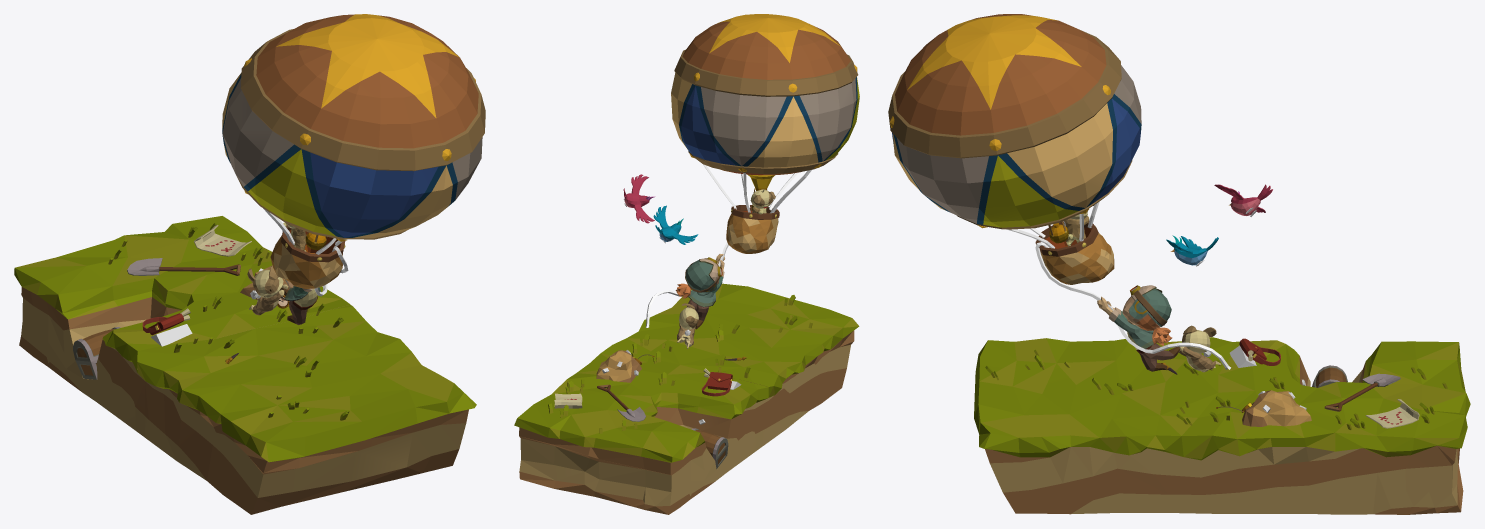
The model's file is 0028_hotAirBalloon.fbx.
The picture shows the model from 3 angles, left to right: view 1: azimuth 30°, elevation 25°; view 2: azimuth 150°, elevation 25°; view 3: azimuth 270°, elevation 25°; orthographic projection. The views are drawn at different scales.
Visible parts, largest first — view 1: AirBalloon_Balloon, Ground_B, Ground_A, AirBalloon_Basket, Chest, Shovel, Map, Dog_A_Head; view 2: Ground_A, AirBalloon_Balloon, Ground_B, AirBalloon_Basket, Boy_Head, Dirt, AirBalloon_Rope_M, Bird_B, Bird_A, Chest, Shovel, Map (+2 smaller); view 3: AirBalloon_Balloon, Ground_B, Ground_A, AirBalloon_Basket, Dirt, Boy_Head, AirBalloon_Rope_L, Boy_Body, Map, Bird_B, Bird_A, Shovel.
Boxes of the visible parts, <box> form: AirBalloon_Balloon: <box>222,14,485,241</box>; Ground_B: <box>137,305,476,514</box>; Ground_A: <box>14,216,350,437</box>; AirBalloon_Basket: <box>270,227,345,288</box>; Chest: <box>73,327,120,379</box>; Shovel: <box>127,258,240,275</box>; Map: <box>194,225,251,256</box>; Dog_A_Head: <box>247,265,283,297</box>; Ground_A: <box>514,347,768,514</box>; AirBalloon_Balloon: <box>671,14,859,190</box>; Ground_B: <box>610,283,859,445</box>; AirBalloon_Basket: <box>726,205,779,253</box>; Boy_Head: <box>675,258,718,298</box>; Dirt: <box>596,350,641,382</box>; AirBalloon_Rope_M: <box>703,164,811,213</box>; Bird_B: <box>623,174,655,223</box>; Bird_A: <box>653,205,698,244</box>; Chest: <box>692,428,728,469</box>; Shovel: <box>597,384,645,421</box>; Map: <box>554,393,582,408</box>; AirBalloon_Balloon: <box>888,14,1141,229</box>; Ground_B: <box>974,337,1218,514</box>; Ground_A: <box>1218,338,1470,514</box>; AirBalloon_Basket: <box>1035,220,1114,284</box>; Dirt: <box>1242,390,1311,426</box>; Boy_Head: <box>1122,285,1172,345</box>; AirBalloon_Rope_L: <box>1035,242,1230,369</box>; Boy_Body: <box>1097,296,1153,349</box>; Map: <box>1365,399,1419,428</box>; Bird_B: <box>1214,184,1272,215</box>; Bird_A: <box>1166,235,1218,265</box>; Shovel: <box>1324,373,1400,411</box>.
Size of the model in its own units: 5.99 by 11.75 by 14.03.
